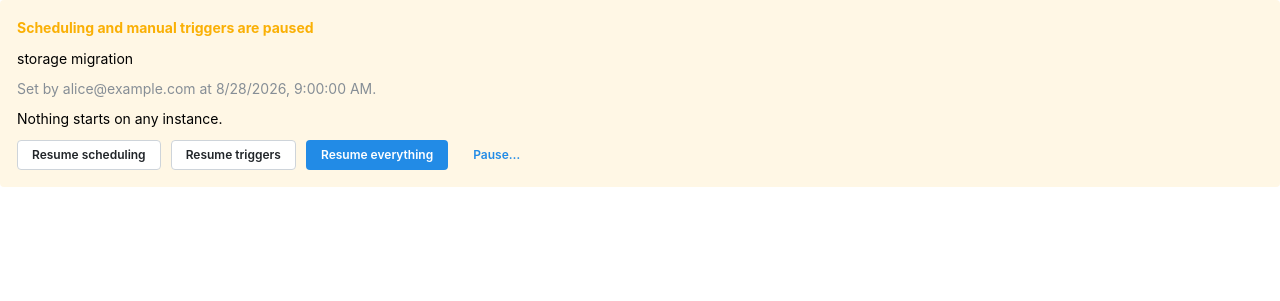
Test: PauseBanner › renders a refused resume on the banner, where no dialog is open
Click the button "Resume everything".
click(377, 155)  # box top-left (306, 140), bottom-right (448, 170)
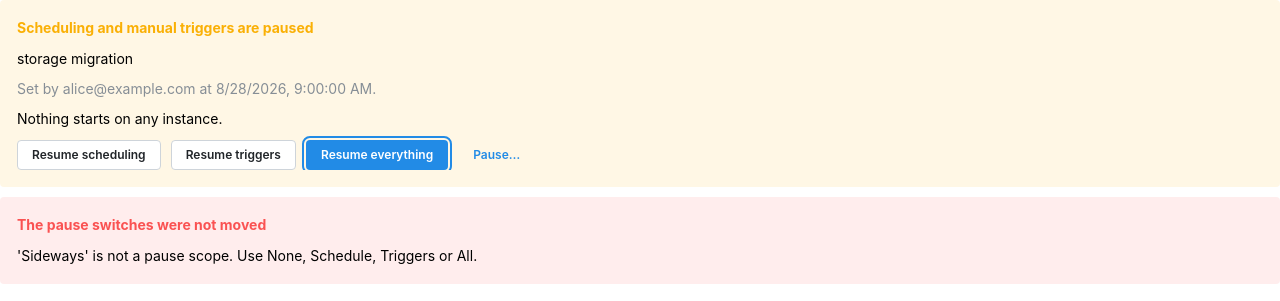
Check: the text "'Sideways' is not a pause scope. Use None, Schedule, Triggers or All." is shown, box top-left (17, 247), bottom-right (477, 264)
